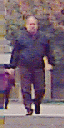person: (16, 17, 47, 113)
